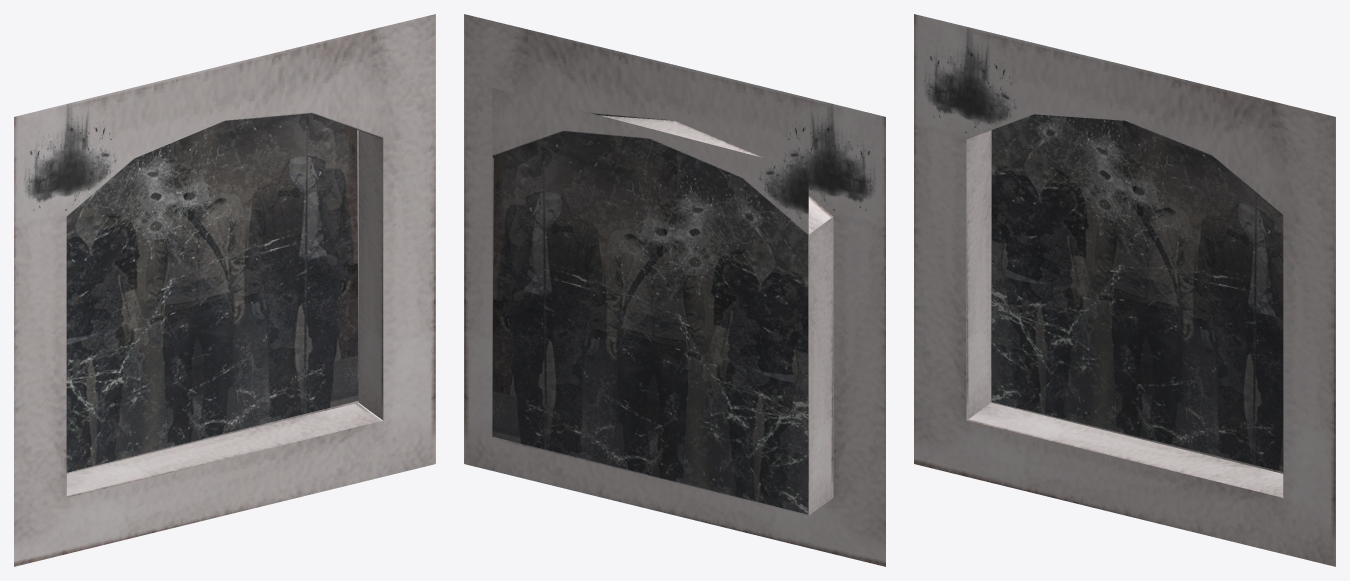
Rendered from shop_round1.obj.
3 views of the same model, side by side, from view 1: azimuth 30°, elevation 25°; view 2: azimuth 150°, elevation 25°; view 3: azimuth 330°, elevation 25° (orthographic).
Parts seen in each view (by area): view 1: ____polySurface140 group; view 2: ____polySurface140 group; view 3: ____polySurface140 group.
Boxes of the visible parts, left/top/right/bottom form: ____polySurface140 group: left=14, top=14, right=435, bottom=566; ____polySurface140 group: left=464, top=14, right=885, bottom=566; ____polySurface140 group: left=914, top=14, right=1335, bottom=566.
Bounding box in the file's own units: 2.01 × 2.05 × 0.2017.
Materials: 1 (1 with a texture image).
